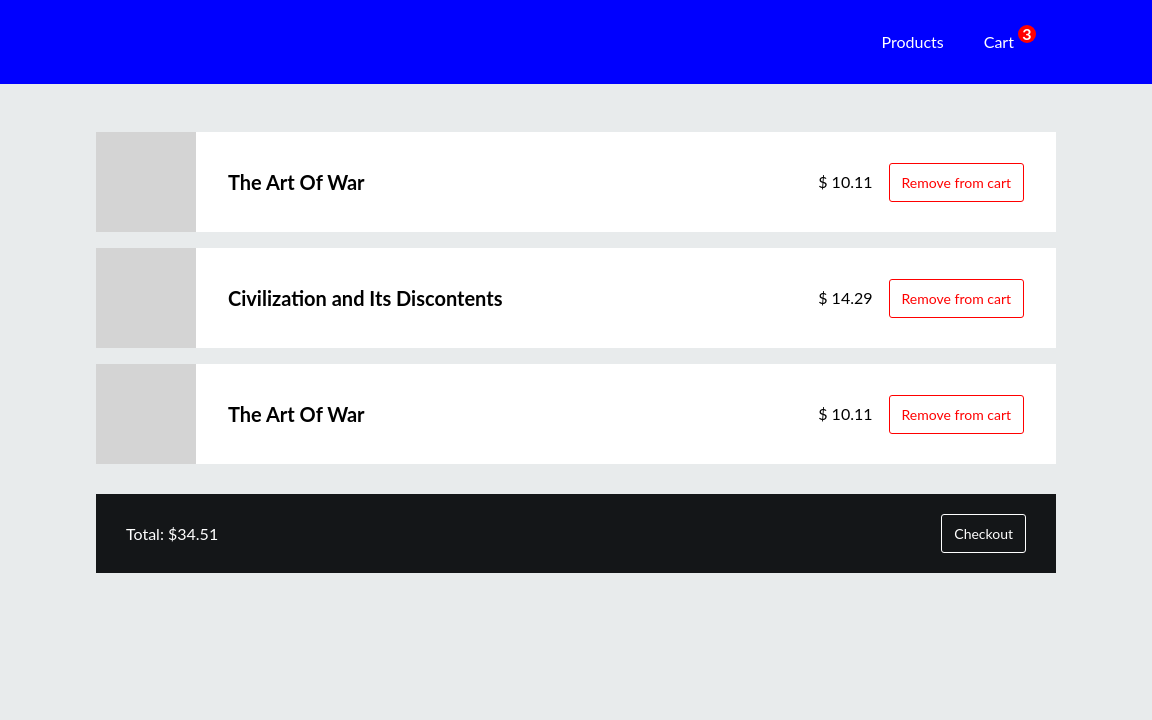
Cart sayfasında Remove from cart kitabı sepetten çıkarıyor
Click the link "Cart 3" at [1010, 38], box 984,25 -> 1036,51
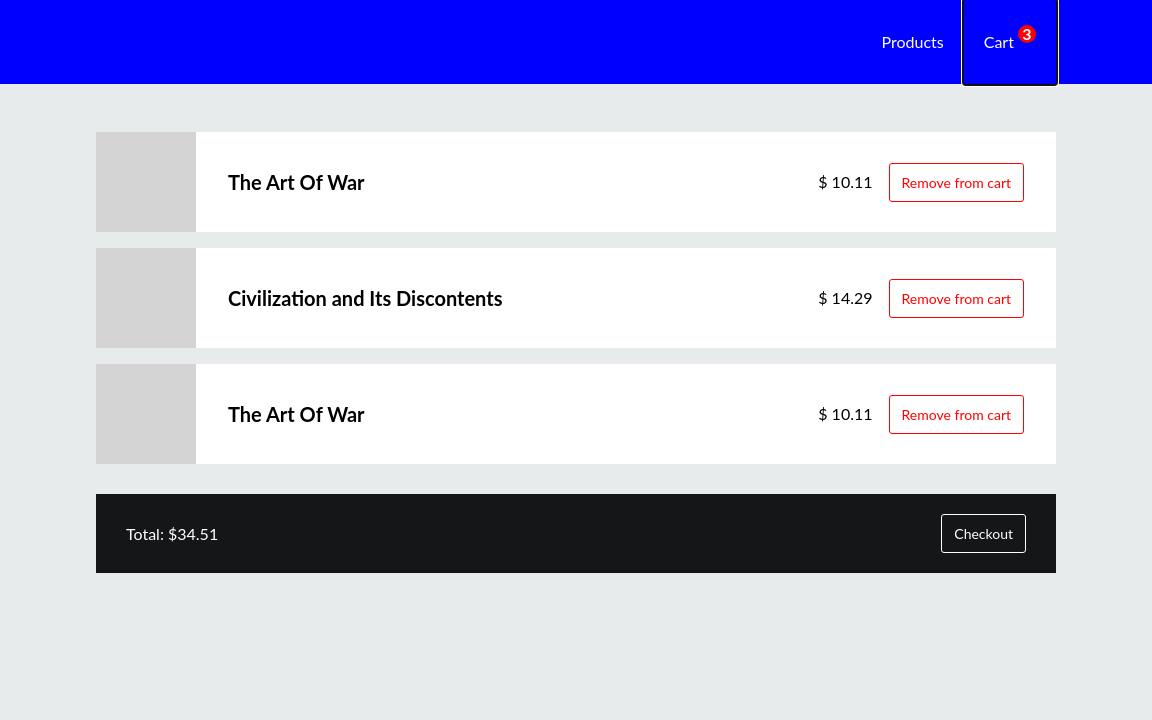
Click the 1st button "Remove from cart" at [956, 182], box 888,162 -> 1024,202
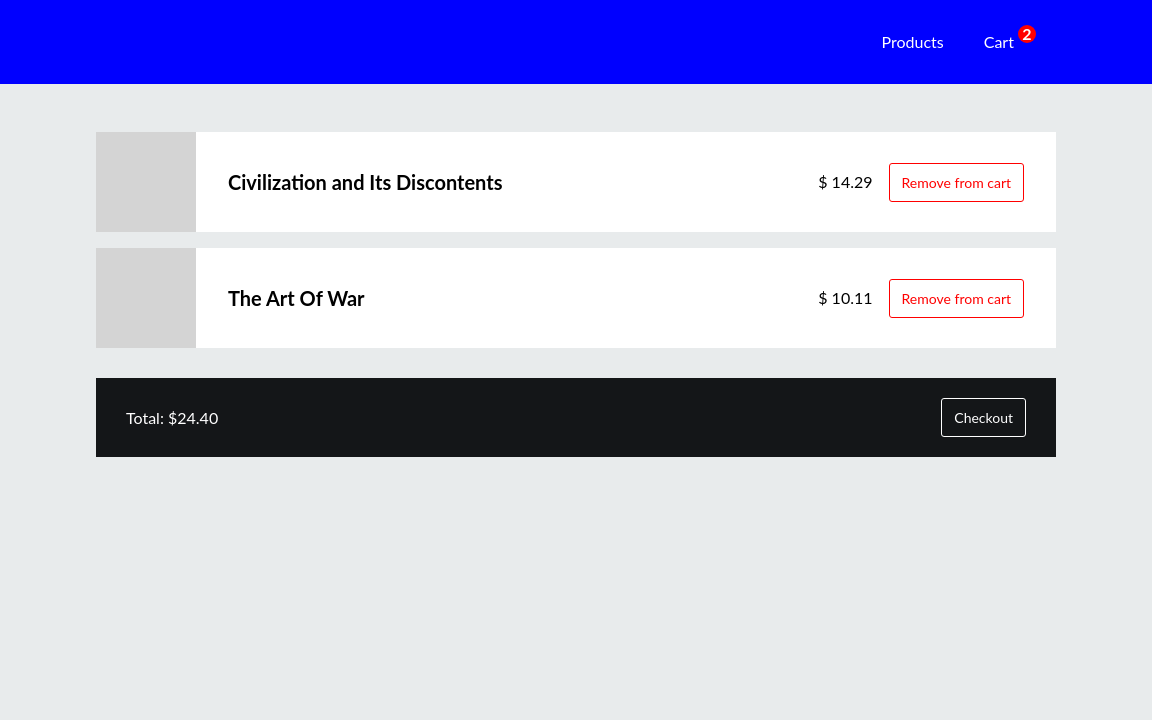
Now the number of headings "The Art Of War" is 1, box 228,286 -> 365,310
